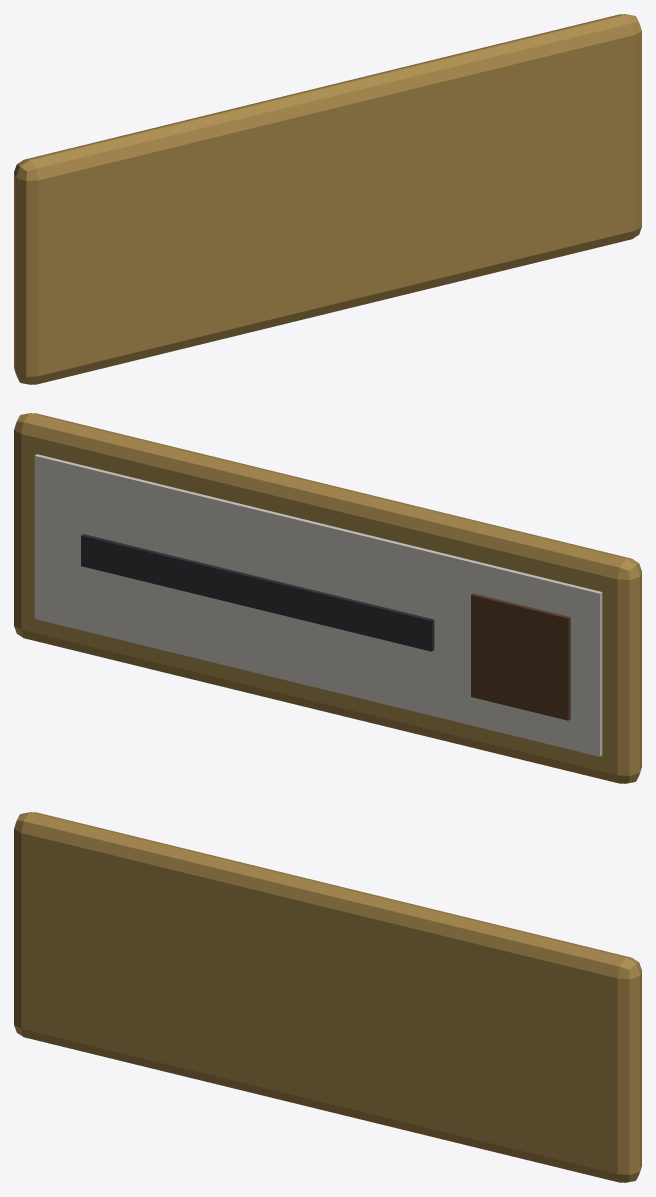
Rendered from name_pin.glb.
The picture shows the model from 3 angles, top to bottom: view 1: azimuth 30°, elevation 25°; view 2: azimuth 150°, elevation 25°; view 3: azimuth 330°, elevation 25°; orthographic projection.
Parts seen in each view (by area): view 1: name_pin_vc; view 2: name_pin_vc; view 3: name_pin_vc.
Boxes of the visible parts, <box> form: name_pin_vc: <box>14,14,641,384</box>; name_pin_vc: <box>14,413,641,783</box>; name_pin_vc: <box>14,812,641,1182</box>.
Bounding box in the file's own units: 0.064 × 0.022 × 0.0038.
